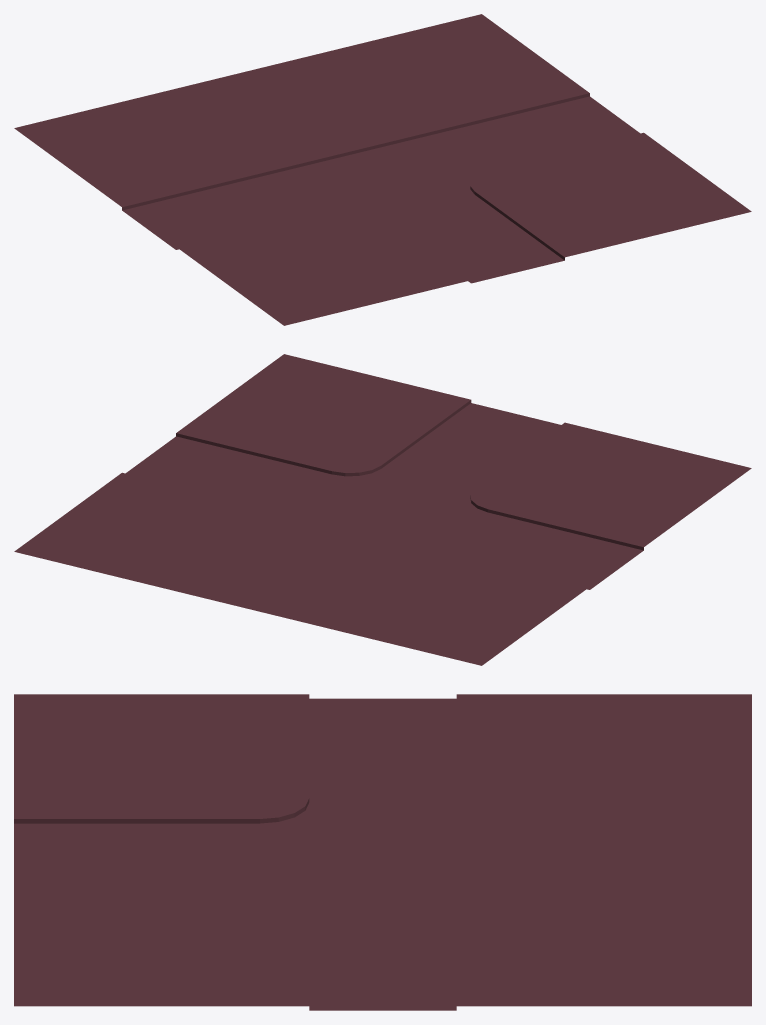
The model's file is tiles-nb-tile-road-intersection-t-nb.glb.
3 views of the same model, one above another, from view 1: azimuth 30°, elevation 25°; view 2: azimuth 150°, elevation 25°; view 3: azimuth 270°, elevation 25° (orthographic). The views are drawn at different scales.
Parts seen in each view (by area): view 1: tile-road-intersection-t-nb; view 2: tile-road-intersection-t-nb; view 3: tile-road-intersection-t-nb.
Boxes of the visible parts, box(x1,y1,x2,y2) form: tile-road-intersection-t-nb: box(14, 14, 751, 325); tile-road-intersection-t-nb: box(14, 354, 751, 665); tile-road-intersection-t-nb: box(14, 694, 751, 1010).
Size of the model in its own units: 30 by 0.2 by 30.
